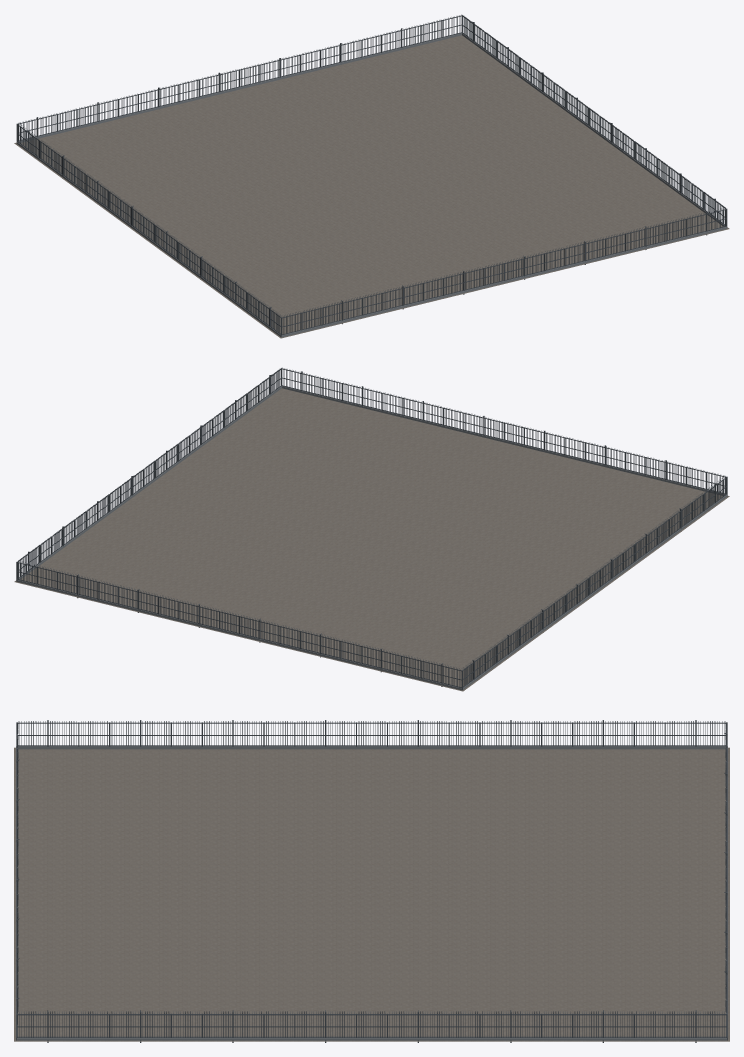
Rendered from clockwork.glb.
3 renders of one model, top to bottom at view 1: azimuth 30°, elevation 25°; view 2: azimuth 150°, elevation 25°; view 3: azimuth 270°, elevation 25°, orthographic. The views are drawn at different scales.
Visible parts, largest first — view 1: Utility paving, Angled security tip, Continuous concrete footing; view 2: Utility paving, Angled security tip, Continuous concrete footing; view 3: Utility paving, Angled security tip, Continuous concrete footing.
Part boxes in pixels (x1,y1,x2,y2): Utility paving: (14, 35, 729, 338); Angled security tip: (16, 14, 727, 337); Continuous concrete footing: (16, 33, 727, 337); Utility paving: (14, 388, 729, 691); Angled security tip: (16, 367, 727, 690); Continuous concrete footing: (16, 386, 727, 690); Utility paving: (14, 747, 729, 1041); Angled security tip: (16, 720, 727, 1042); Continuous concrete footing: (16, 746, 727, 1040).
Size of the model in its own units: 172 by 8.58 by 177.
Materials: 3 (1 with a texture image).
